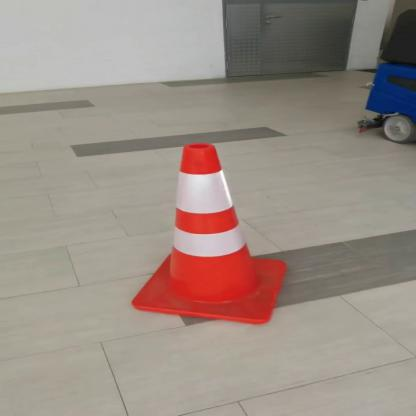cone: (124, 144, 296, 329)
